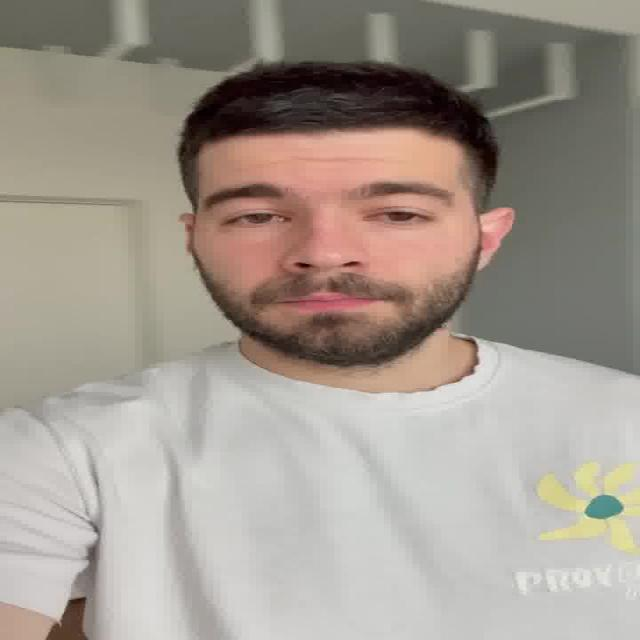earlobe: (478, 247, 498, 270)
eye: (368, 210, 430, 225), (228, 212, 288, 225)
nose: (290, 268, 366, 292)
wholeear: (478, 207, 516, 270), (177, 213, 200, 260)
